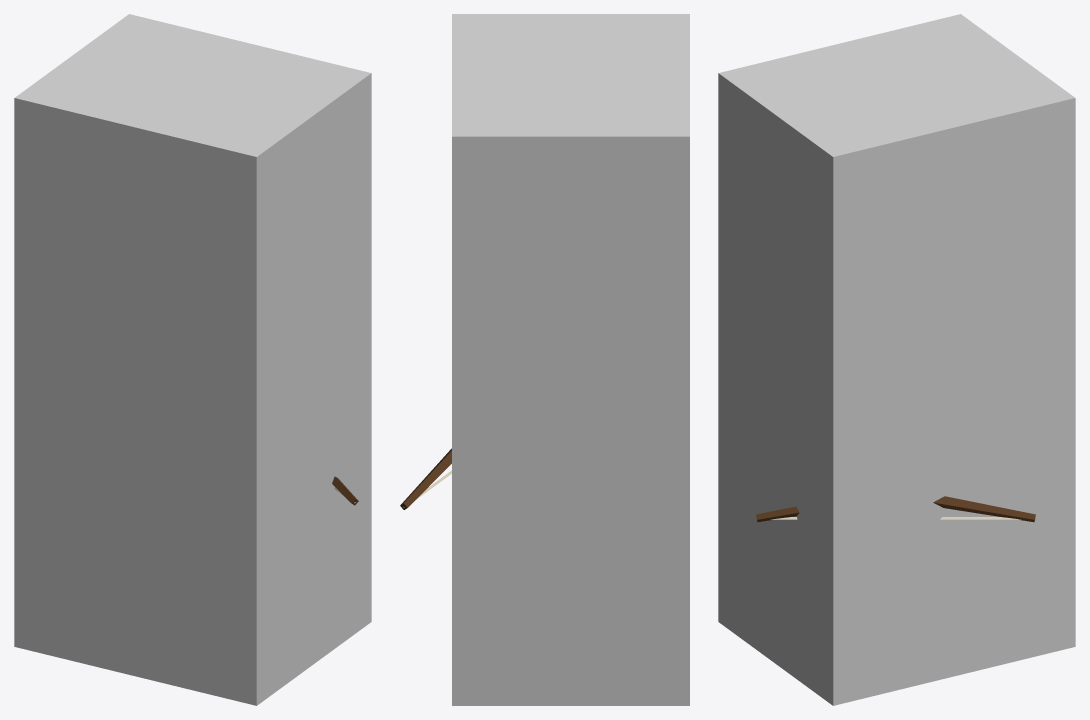
The model's file is jungle_tribal_archer.fbx.
3 renders of one model, left to right at view 1: azimuth 30°, elevation 25°; view 2: azimuth 150°, elevation 25°; view 3: azimuth 270°, elevation 25°, orthographic. The views are drawn at different scales.
Parts seen in each view (by area): view 1: Root__0.00_2.75_-0.07__2.08_5.50_2.54; view 2: Root__0.00_2.75_-0.07__2.08_5.50_2.54, ArmL__Torso__-0.78_3.38_0.00; view 3: Root__0.00_2.75_-0.07__2.08_5.50_2.54, ArmL__Torso__-0.78_3.38_0.00.
Part boxes in pixels (left/top/right/bottom): Root__0.00_2.75_-0.07__2.08_5.50_2.54: left=14, top=14, right=371, bottom=705; Root__0.00_2.75_-0.07__2.08_5.50_2.54: left=452, top=14, right=689, bottom=705; ArmL__Torso__-0.78_3.38_0.00: left=400, top=448, right=451, bottom=509; Root__0.00_2.75_-0.07__2.08_5.50_2.54: left=718, top=14, right=1075, bottom=705; ArmL__Torso__-0.78_3.38_0.00: left=756, top=496, right=1035, bottom=522.
Size of the model in its own units: 86.1 by 155 by 90.79.
Materials: 1 (1 with a texture image).
